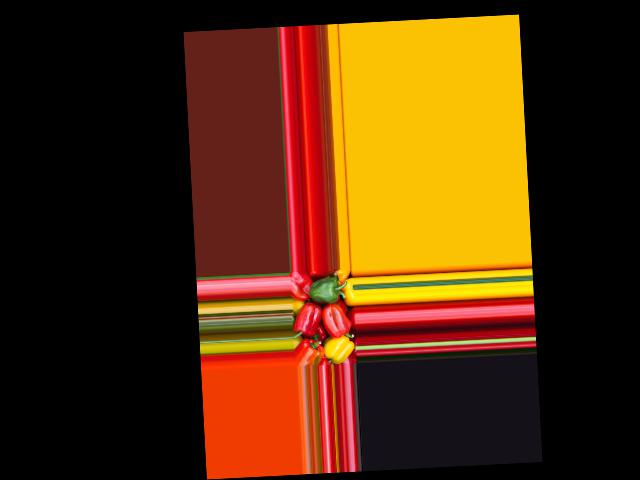bell_pepper: (321, 333, 356, 364)
